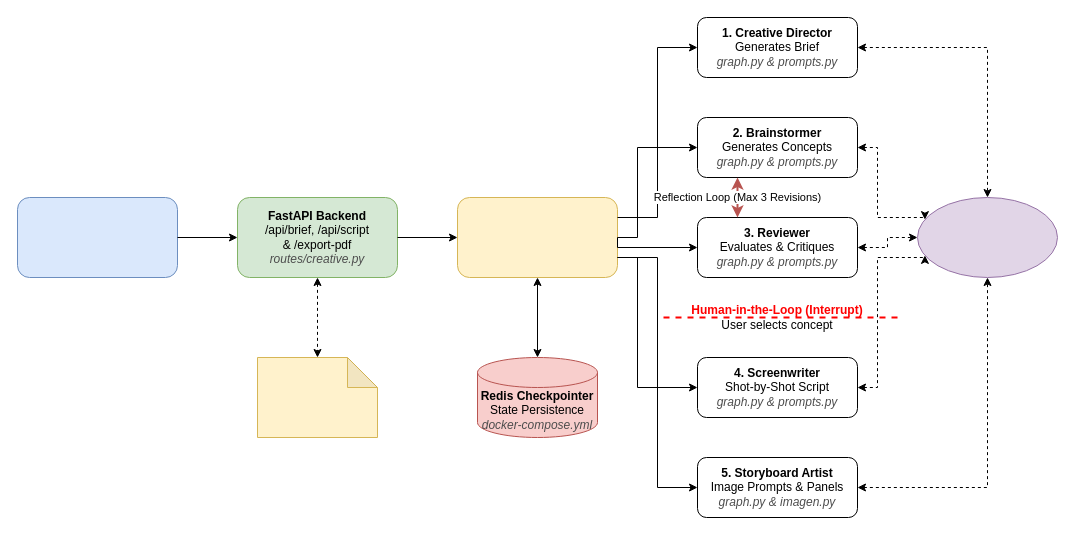
This 1075x535 diagram has some shape labels left out. Here are the shapes that lost their labels. From the top down, the centre of each, then its label:
(97,237): React Frontend Wizard UI & PDF Export App.jsx & api.js
(537,237): LangGraph Orchestrator StateGraph (CreativeState) services/graph.py
(987,237): Groq API Llama-3 (JSON Instructor) services/llm.py
(317,397): PDF Generator ReportLab pdf_generator.py
